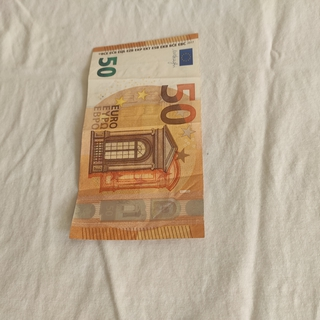50EUROFront: (69, 32, 205, 240)
